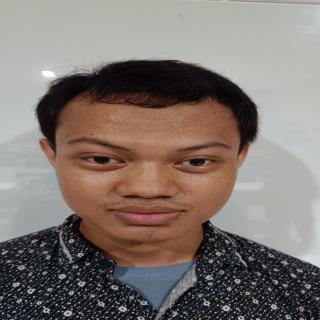Takut: (46, 88, 245, 249)
